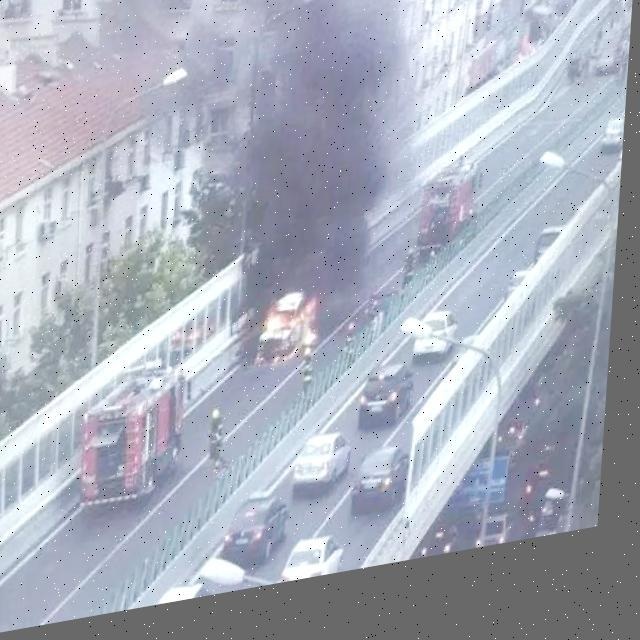Fire: (263, 290, 327, 376)
